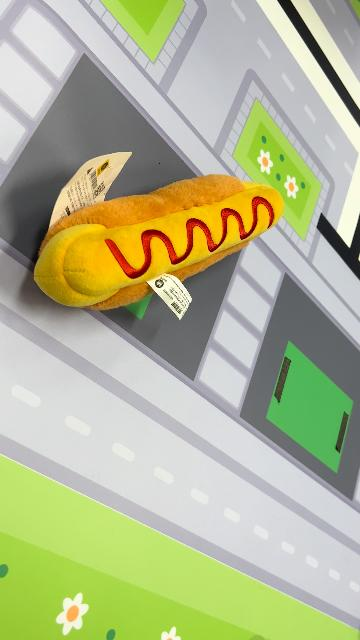hotdog: (33, 172, 286, 312)
